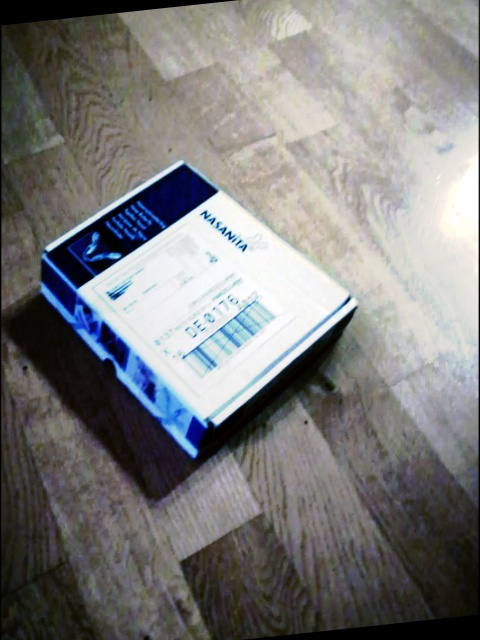good-parcel: (24, 160, 392, 455)
